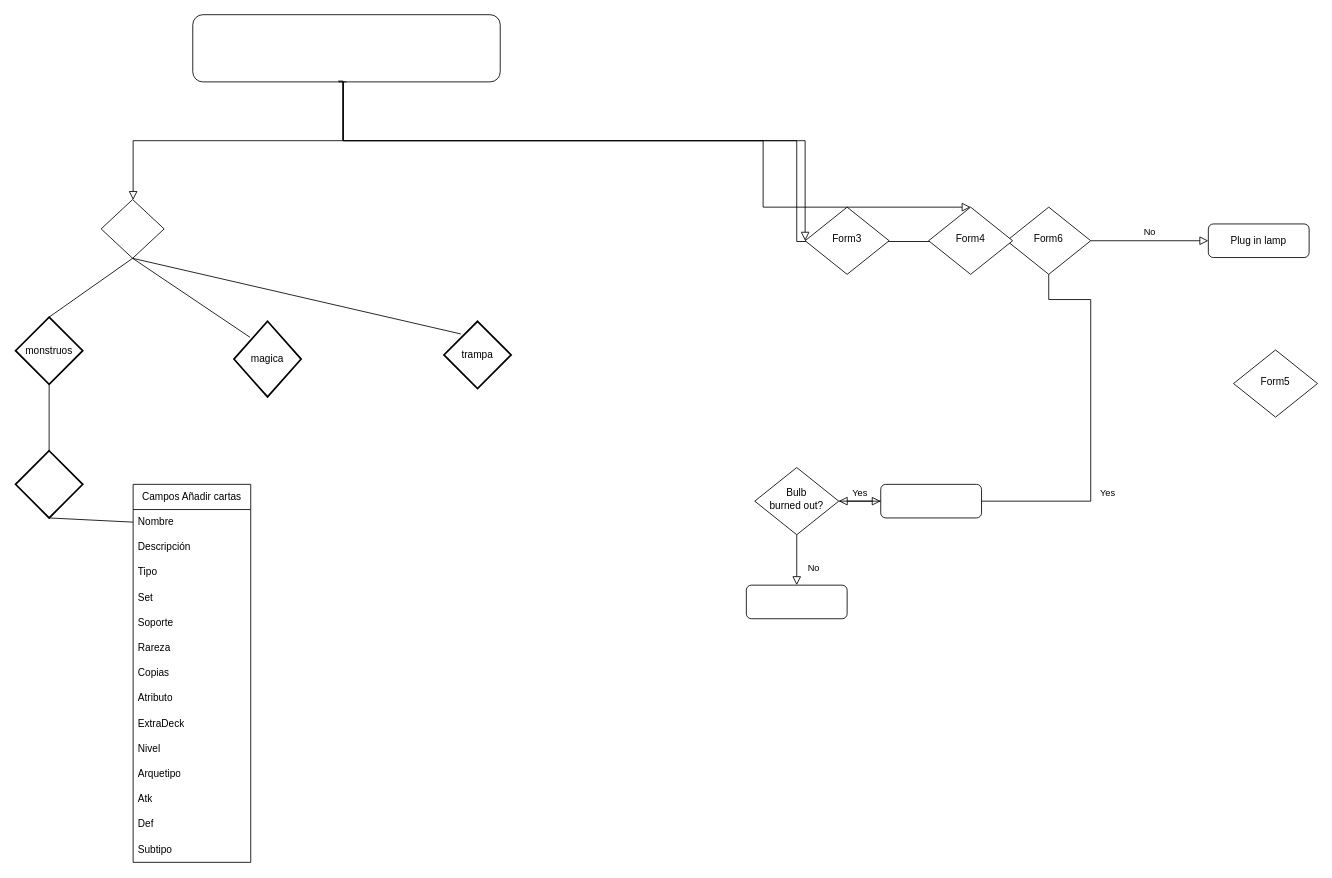
Some shapes in this 1332 by 878 pixel diagram are drawn without their labels. Each missing label, with the centre of its shape:
"DALE!" belongs at point 48,483.
"Form1" belongs at point 346,48.
"Form2" belongs at point 132,228.
"Repair Lamp" belongs at point 796,601.
"Replace Bulb" belongs at point 931,501.
